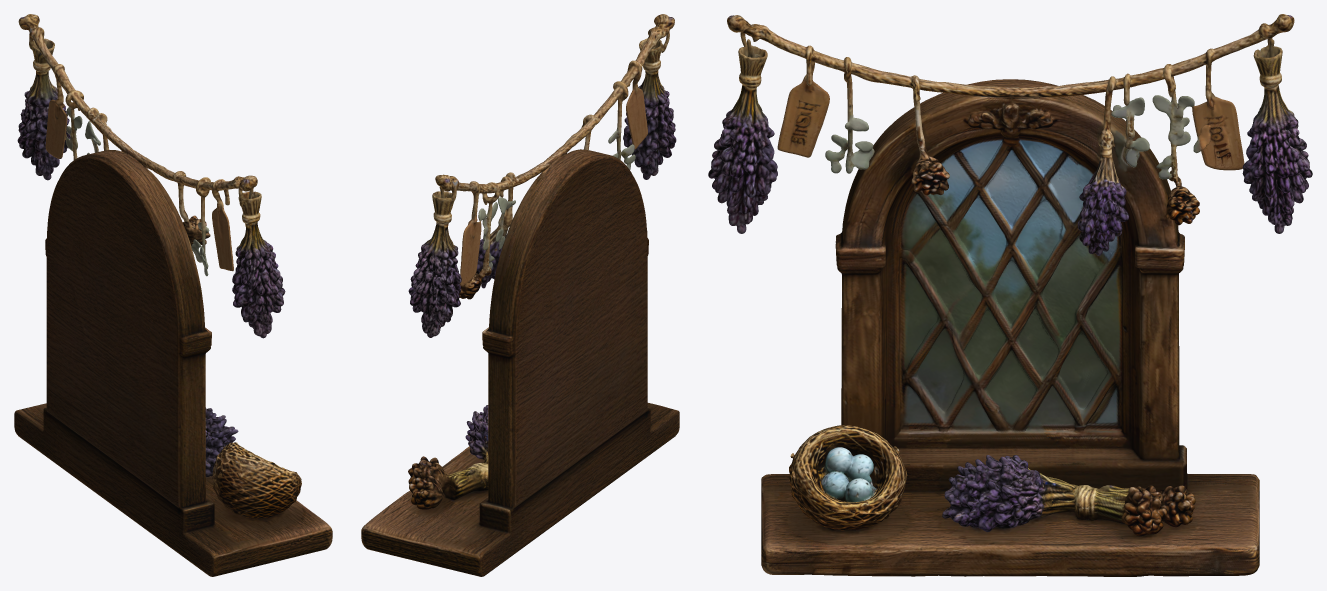
Rendered from C02-窗台花卉装饰3d模型.glb.
3 views of the same model, side by side, from view 1: azimuth 30°, elevation 25°; view 2: azimuth 150°, elevation 25°; view 3: azimuth 270°, elevation 25° (orthographic). The views are drawn at different scales.
Visible parts, largest first — view 1: tripo_node_54edcb2d-a64a-4586-91d5-90764706b7ec; view 2: tripo_node_54edcb2d-a64a-4586-91d5-90764706b7ec; view 3: tripo_node_54edcb2d-a64a-4586-91d5-90764706b7ec.
Part boxes in pixels (bbox=[...]): tripo_node_54edcb2d-a64a-4586-91d5-90764706b7ec: bbox=[14, 14, 332, 576]; tripo_node_54edcb2d-a64a-4586-91d5-90764706b7ec: bbox=[361, 14, 679, 576]; tripo_node_54edcb2d-a64a-4586-91d5-90764706b7ec: bbox=[708, 14, 1312, 576].
Size of the model in its own units: 0.2929 by 0.9227 by 1.
1 material, 1 textured.
